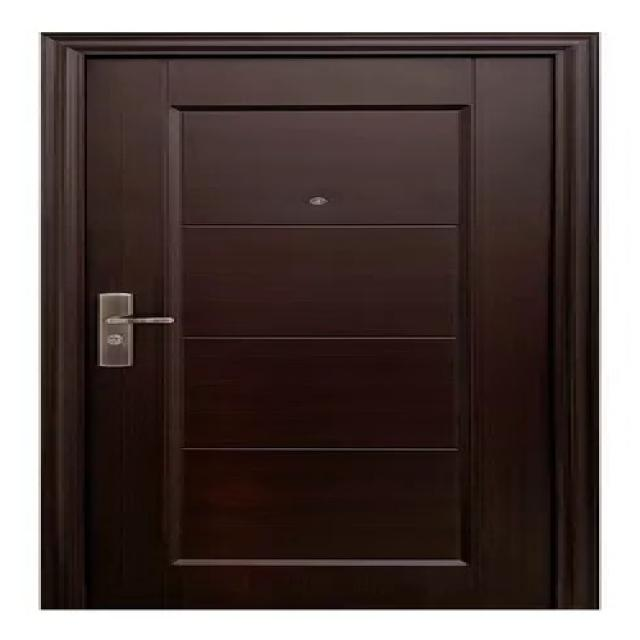door: (48, 33, 596, 610)
